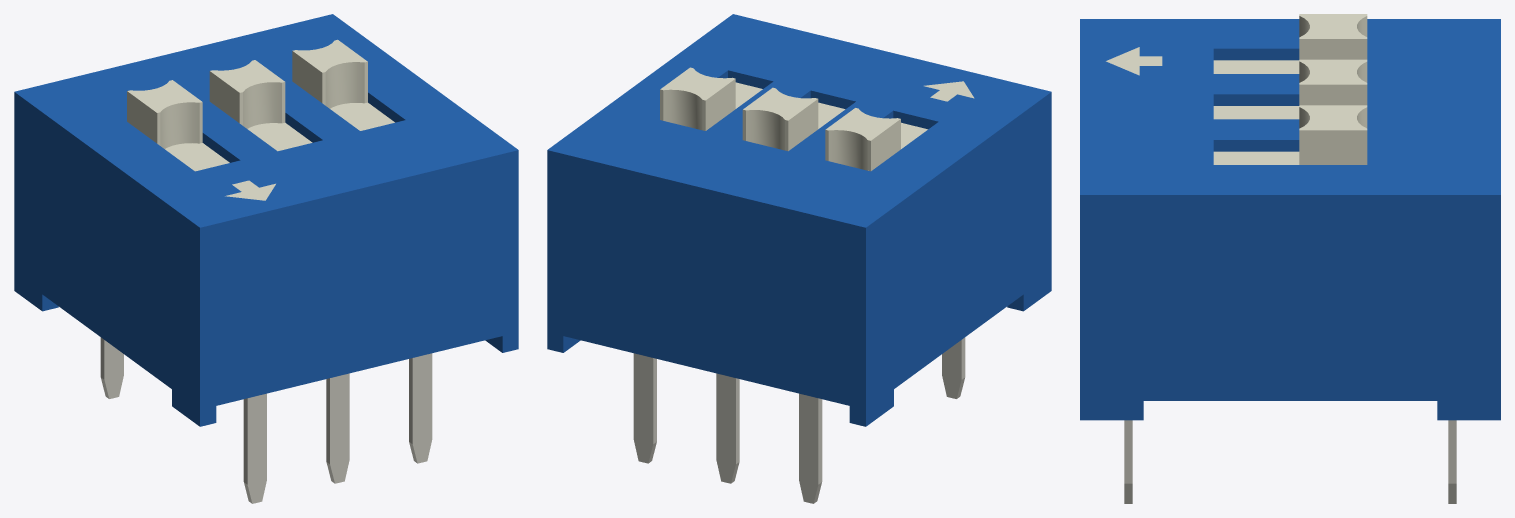
Rendered from kc-sw_dip_spstx03_slide_9.78x9.8mm_w7.62mm_p2.54mm.glb.
3 views of the same model, side by side, from view 1: azimuth 30°, elevation 25°; view 2: azimuth 150°, elevation 25°; view 3: azimuth 270°, elevation 25° (orthographic). The views are drawn at different scales.
Visible parts, largest first — view 1: 0_0.16666666666666666_0.5_0, 0.75_0.75_0.6666666666666666_0, 0.6666666666666666_0.6666666666666666_0.5833333333333334_0.8; view 2: 0_0.16666666666666666_0.5_0, 0.75_0.75_0.6666666666666666_0, 0.6666666666666666_0.6666666666666666_0.5833333333333334_0.8; view 3: 0_0.16666666666666666_0.5_0, 0.75_0.75_0.6666666666666666_0, 0.6666666666666666_0.6666666666666666_0.5833333333333334_0.8.
Boxes of the visible parts, <box> form: 0_0.16666666666666666_0.5_0: <box>14,14,518,426</box>; 0.75_0.75_0.6666666666666666_0: <box>127,39,394,200</box>; 0.6666666666666666_0.6666666666666666_0.5833333333333334_0.8: <box>100,337,432,503</box>; 0_0.16666666666666666_0.5_0: <box>547,14,1051,426</box>; 0.75_0.75_0.6666666666666666_0: <box>660,67,974,171</box>; 0.6666666666666666_0.6666666666666666_0.5833333333333334_0.8: <box>633,337,965,503</box>; 0_0.16666666666666666_0.5_0: <box>1080,19,1500,420</box>; 0.75_0.75_0.6666666666666666_0: <box>1106,14,1367,164</box>; 0.6666666666666666_0.6666666666666666_0.5833333333333334_0.8: <box>1124,420,1456,503</box>.
Bounding box in the file's own units: 0.98 × 0.995 × 0.99.
